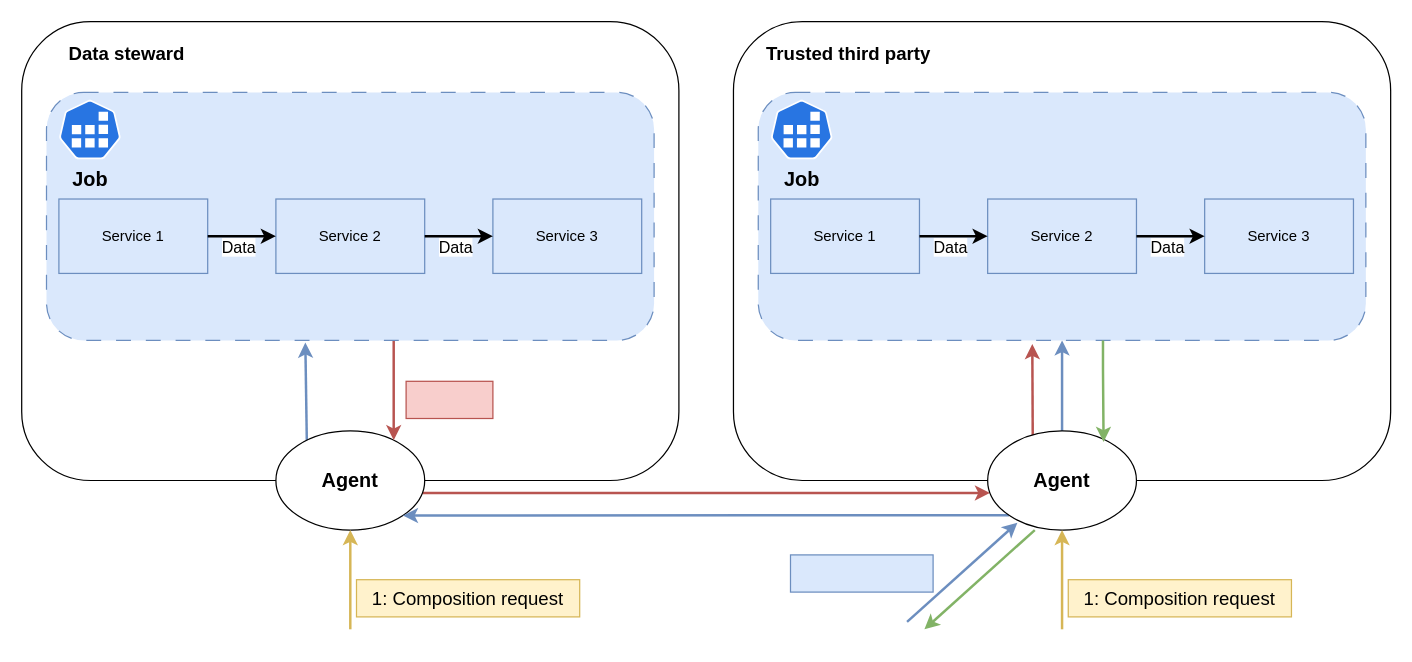
The diagram is 1412 pixels wide and 662 high, and some of its shapes have lost their labels. The shapes that lost their labels are listed below. From the top down, each one's box as (x1, y1, x2, y2) in pixels, then its label:
(405, 380, 493, 418): 3: Result
(789, 554, 933, 592): 2: Data request
